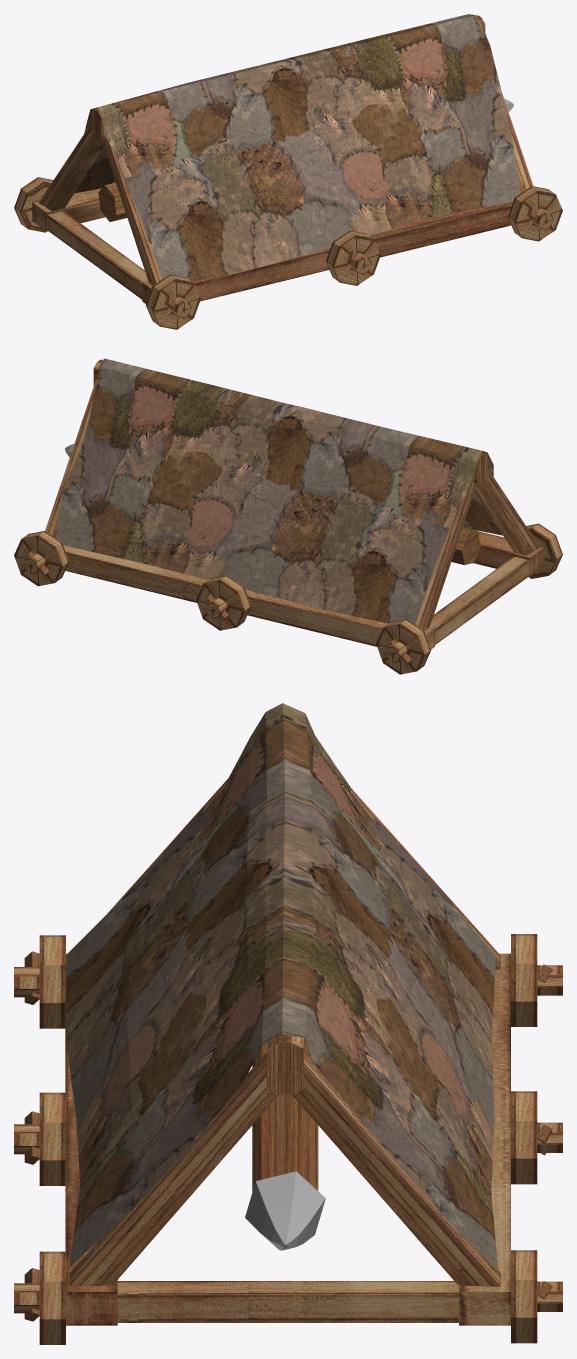
Rendered from iber_siege_ram.dae.
3 views of the same model, one above another, from view 1: azimuth 30°, elevation 25°; view 2: azimuth 150°, elevation 25°; view 3: azimuth 270°, elevation 25° (orthographic). The views are drawn at different scales.
Visible parts, largest first — view 1: Cylinder; view 2: Cylinder; view 3: Cylinder.
Boxes of the visible parts, box(x1,y1,x2,y2) form: Cylinder: box(14, 14, 562, 329); Cylinder: box(14, 358, 562, 674); Cylinder: box(14, 703, 562, 1344).
Size of the model in its own units: 12.39 by 7.66 by 4.83.
